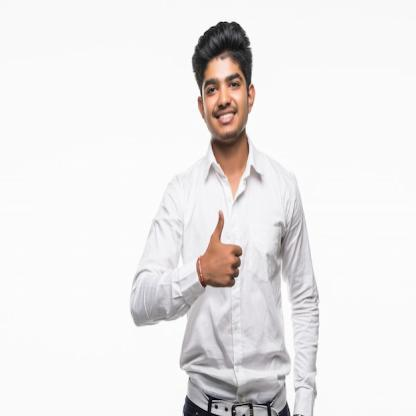thumb_up: (199, 206, 243, 289)
